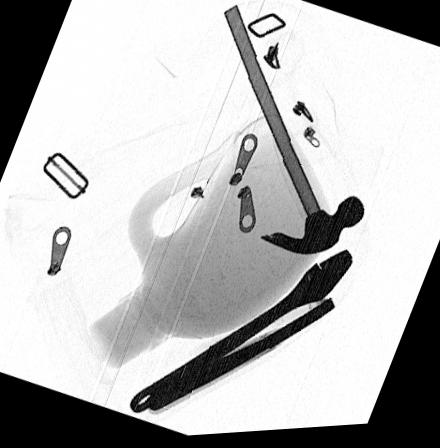Hammer: (221, 6, 365, 256)
Pliers: (135, 300, 337, 422)
Wrench: (129, 254, 355, 414)
